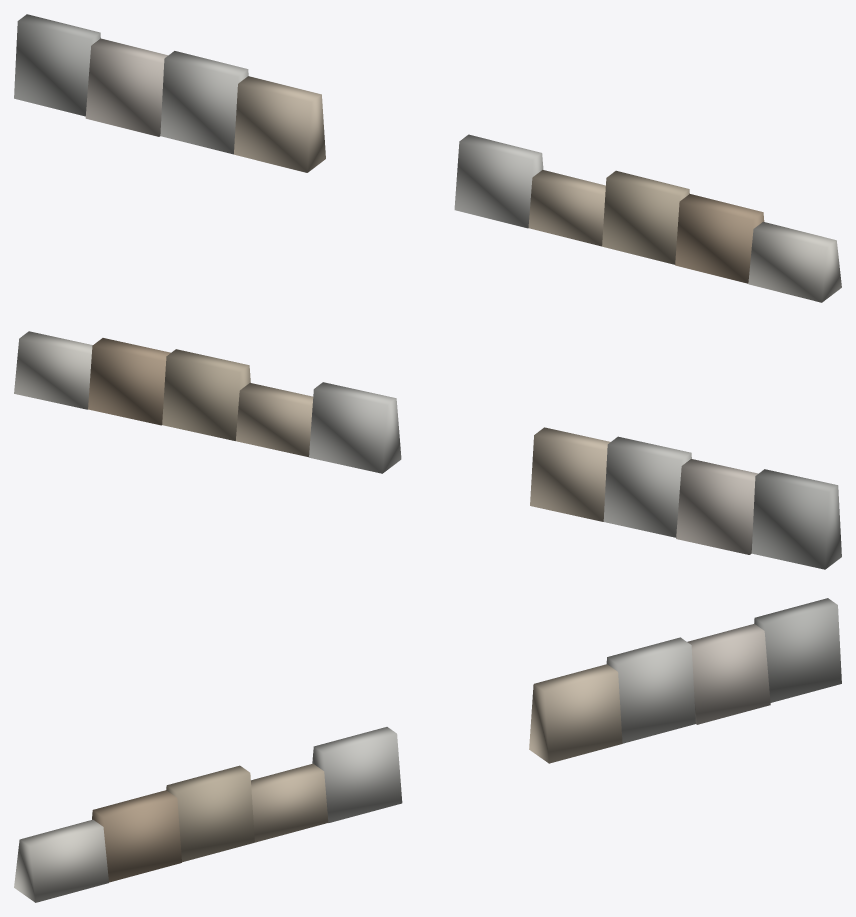
File: farm_5_9_collision.glb
3 views of the same model, one above another, from view 1: azimuth 30°, elevation 25°; view 2: azimuth 210°, elevation 25°; view 3: azimuth 270°, elevation 25° (orthographic).
Visible parts, largest first — view 1: geometry_0; view 2: geometry_0; view 3: geometry_0.
Boxes of the visible parts, x1,y1,x2,y2 form: geometry_0: (14,14,841,302); geometry_0: (14,331,841,569); geometry_0: (14,598,841,902).
Size of the model in its own units: 8.85 by 1.68 by 14.16.
